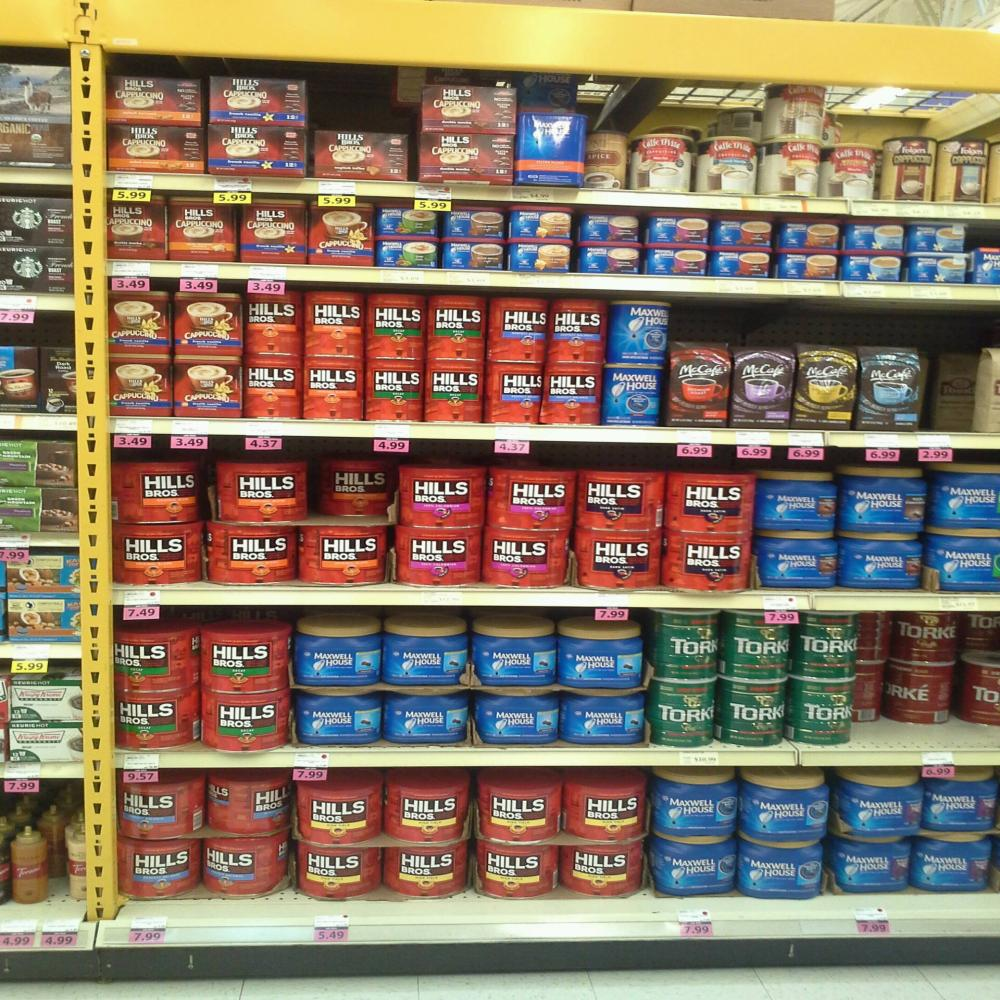shelf: (0, 164, 1000, 222), (109, 257, 1000, 303), (0, 914, 1000, 953), (103, 414, 1000, 451), (111, 589, 1000, 614), (112, 747, 1000, 771), (0, 411, 76, 432), (0, 293, 76, 312), (0, 761, 82, 777), (0, 644, 80, 659)
